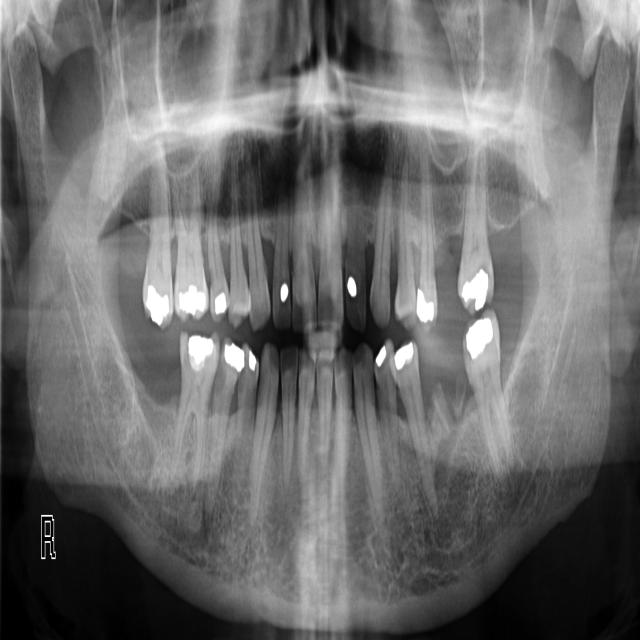tooth: (463, 312, 510, 475), (458, 154, 491, 311), (177, 332, 217, 461), (394, 183, 430, 321), (142, 167, 172, 326), (352, 346, 380, 511), (174, 184, 208, 319), (317, 183, 343, 343), (253, 345, 279, 488), (210, 344, 242, 457), (393, 342, 425, 453), (414, 182, 438, 321), (331, 347, 352, 503), (291, 202, 315, 330), (369, 201, 392, 325), (247, 218, 271, 328), (269, 212, 291, 329), (376, 347, 398, 463), (238, 346, 258, 468), (206, 218, 228, 321), (228, 220, 249, 325), (282, 346, 296, 483), (299, 347, 314, 473), (317, 349, 333, 466), (345, 279, 367, 330)
